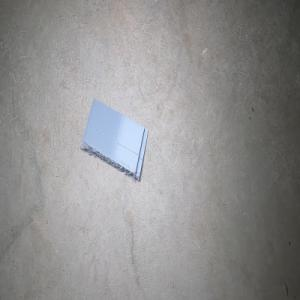PlasticPart: (80, 97, 148, 182)
